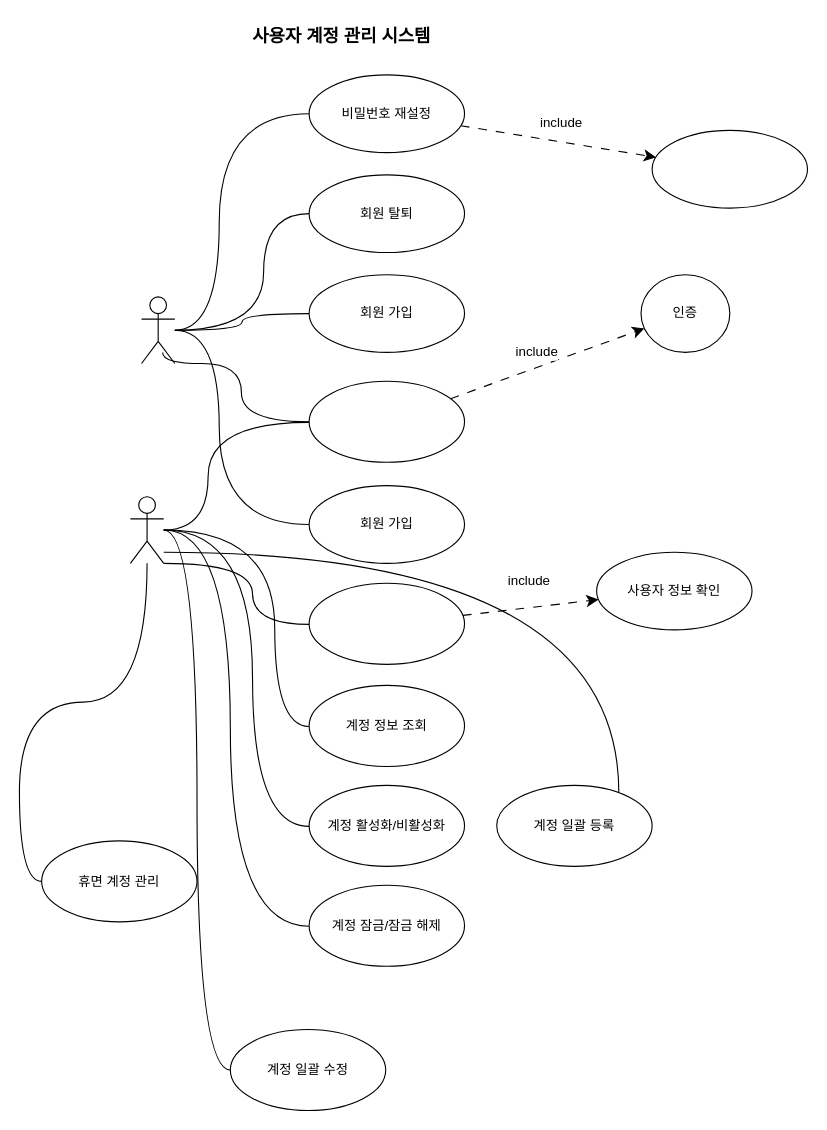
Image size: 827x1130. Some labels were removed from this diagram. The centre of each missing label's shape, as x and y in pixels:
계정 정보 수정: the point at 386,421
관리자: the point at 146,529
로그인: the point at 386,623
본인확인: the point at 729,168
일반사용자: the point at 157,330
